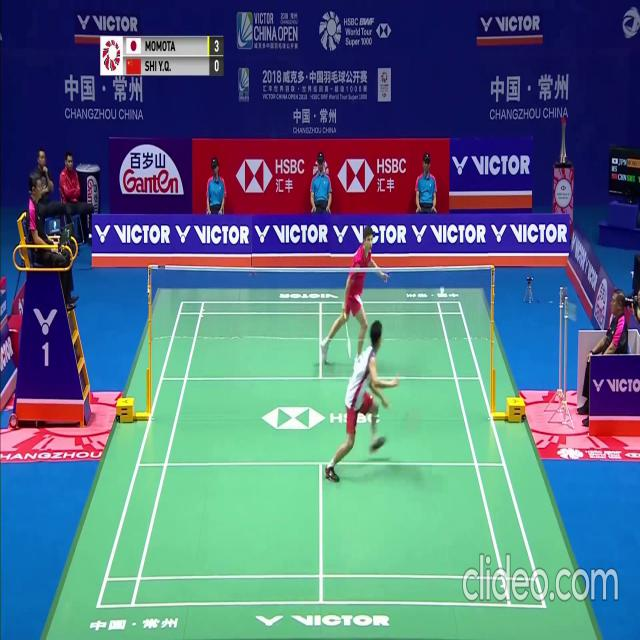Shuttlecock: (439, 288, 444, 295)
